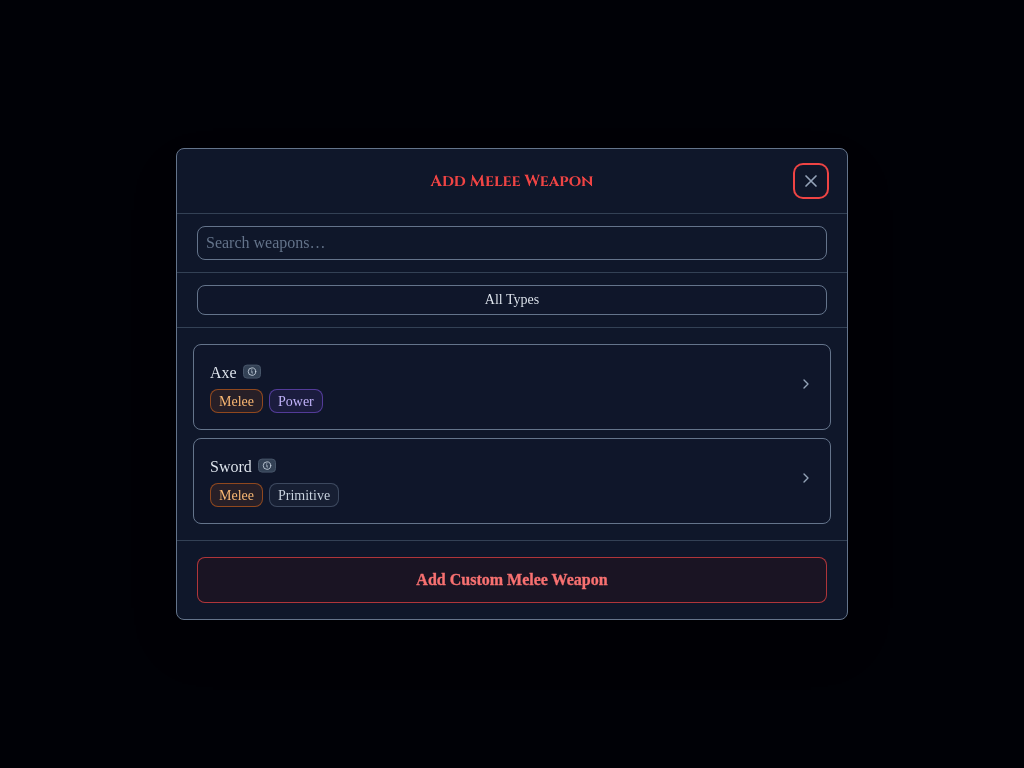
Test: MeleePicker › filters the list by weapon type
This screenshot has width=1024, height=768.
Click the button "All Types" at (512, 300), box [197, 285, 827, 315]
(page scrolled)
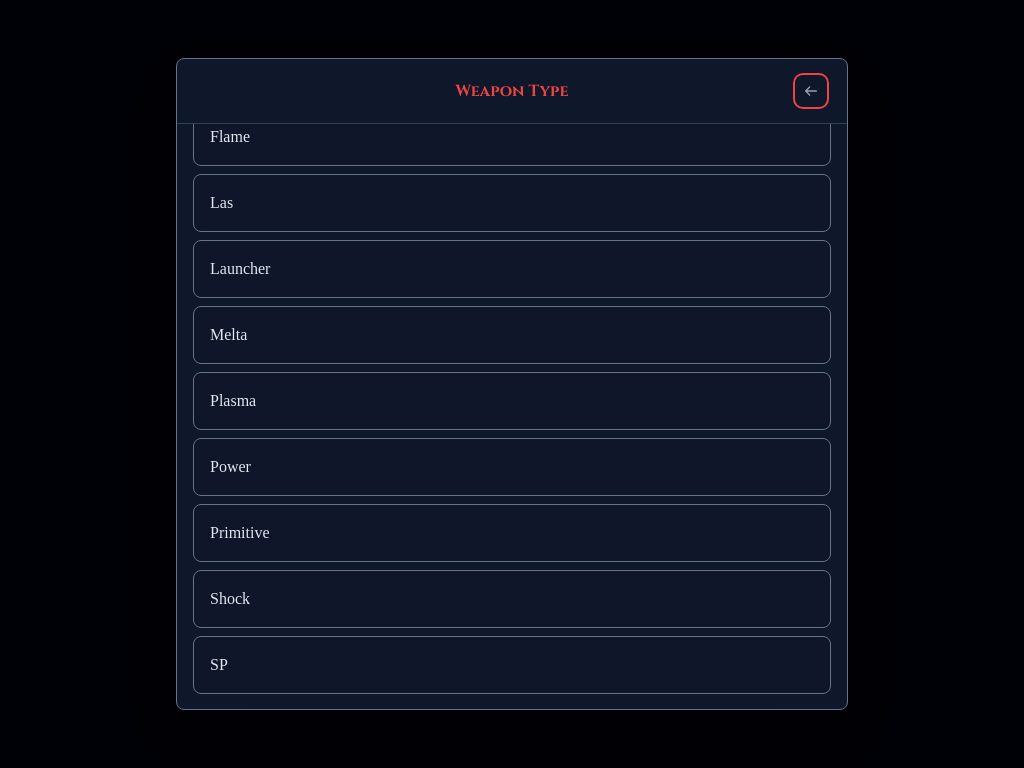
Click the button "Power" at (230, 466), box [193, 438, 831, 496]
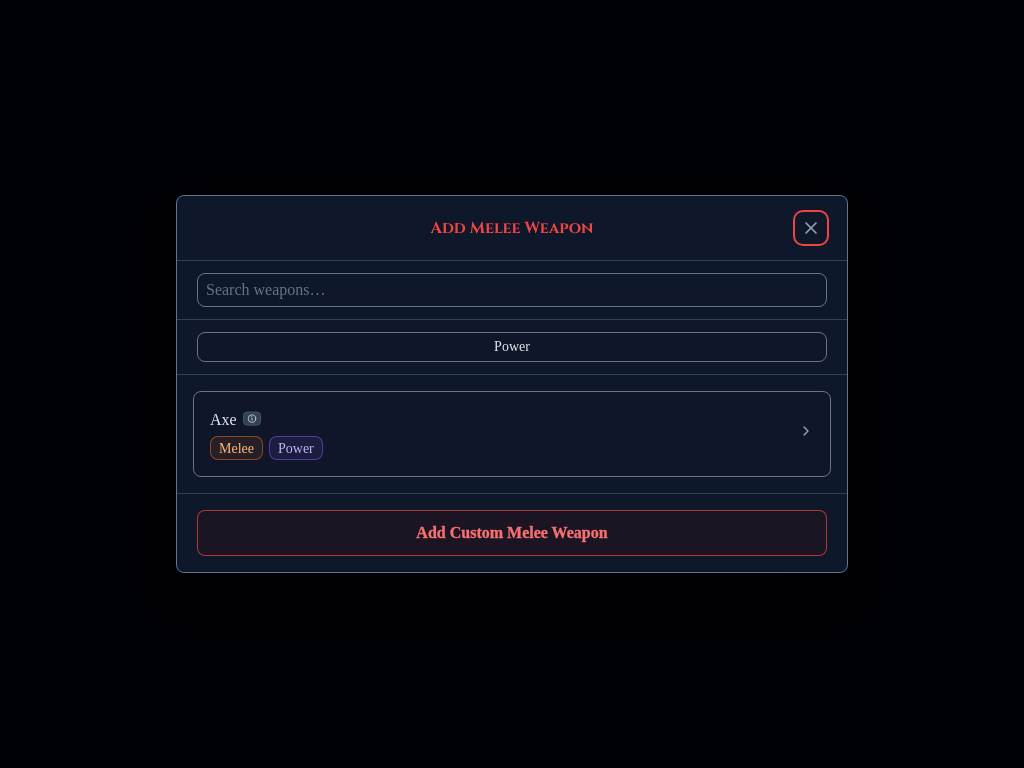
Expected: the text "Sword" is not shown
Now the text "Axe" is shown, box [210, 408, 237, 432]
